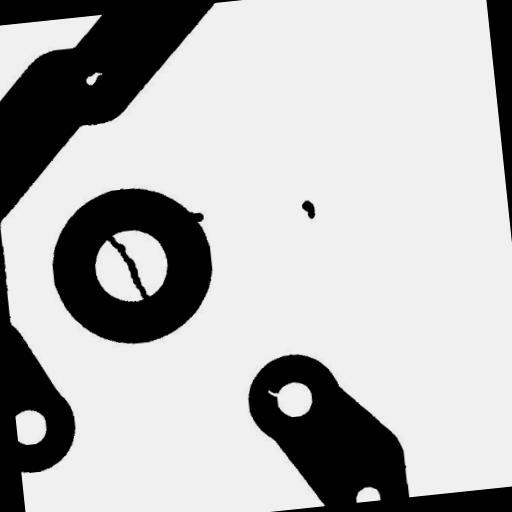copper: (294, 192, 324, 228)
mousebite: (259, 381, 288, 407)
pin-hole: (76, 64, 112, 94)
short: (96, 222, 159, 313)
spur: (178, 202, 212, 231)
